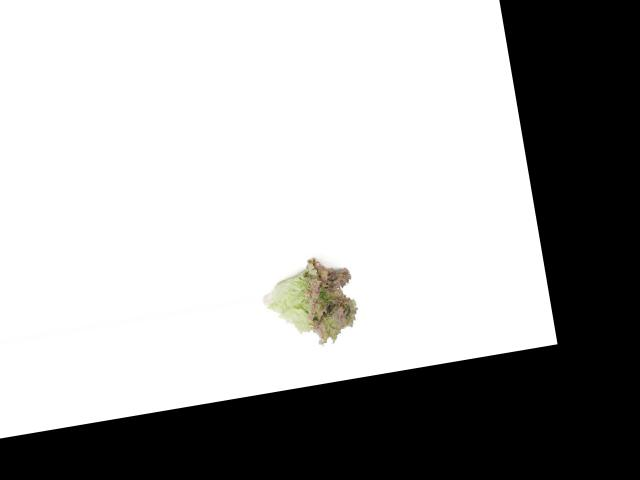lettuce: (253, 242, 374, 357)
